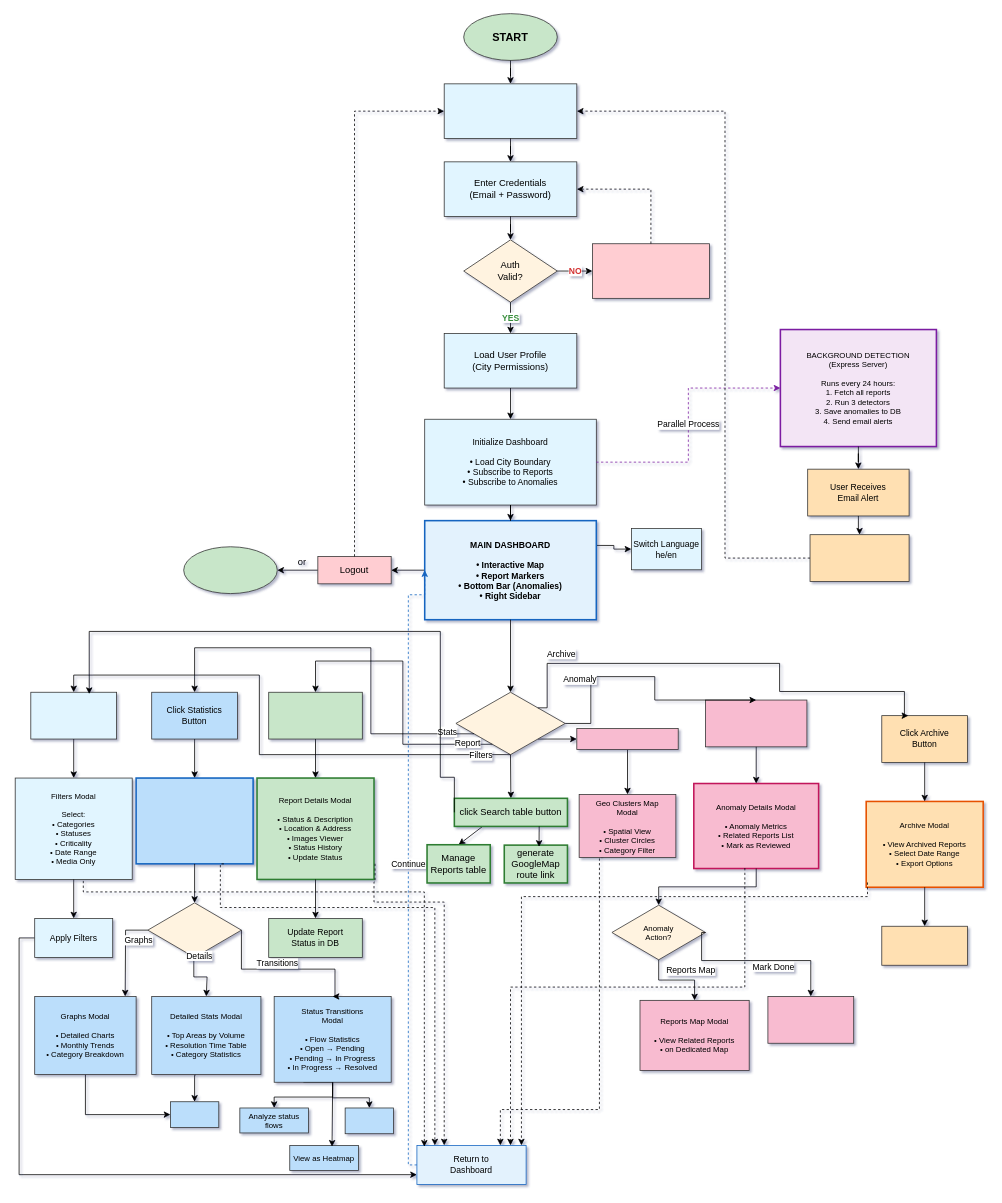
Image size: 1002x1203. Some labels were removed from this diagram. Each missing label, with the centre of its shape:
"Click Anomaly Card (Bottom Bar)" belongs at point 756,723.
"Click Filters Button" belongs at point 73,715.
"Click Geo Map Button" belongs at point 627,739.
"Click Link in Email → Open System" belongs at point 859,557.
"Click Report Marker on Map" belongs at point 315,715.
"Download as PDF" belongs at point 194,1114.
"END" belongs at point 230,570.
"Export EXCEL" belongs at point 369,1120.
"Export to Excel / PDF" belongs at point 924,945.
"Mark Anomaly as Reviewed" belongs at point 810,1019.
"Show Error Message Return to Login" belongs at point 650,270.
"Statistics Modal • Summary Stats • Resolution Time Chart • Time Range Selection" belongs at point 194,820.
"Stats Action?" belongs at point 194,929.
"User Action?" belongs at point 510,723.
"User Opens System (Login Page)" belongs at point 510,110.
